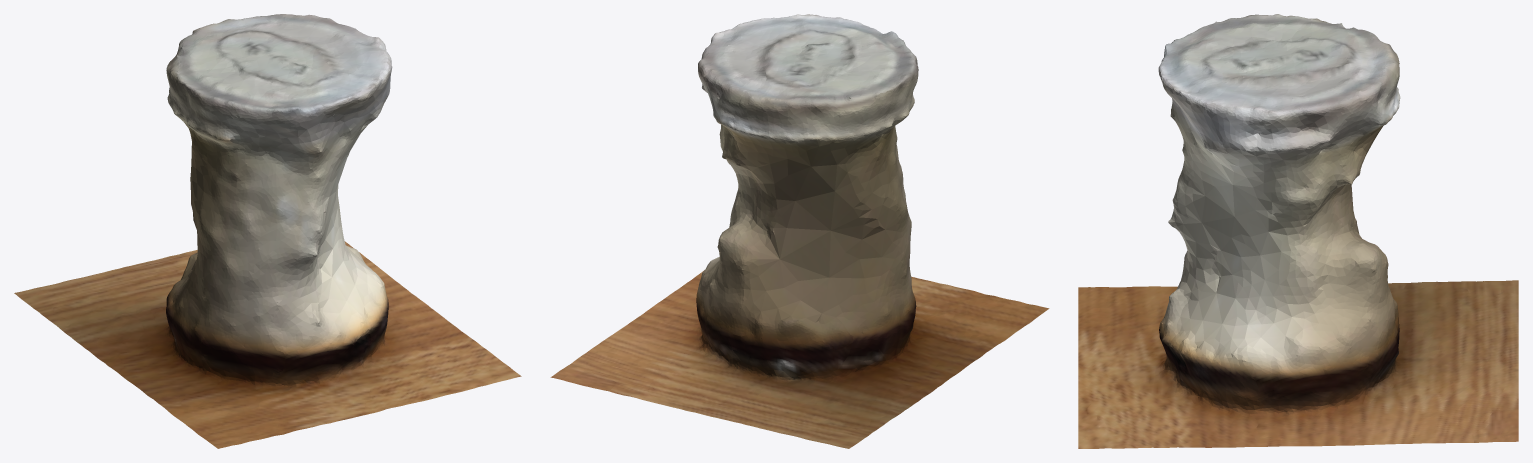
File: purin03.glb
The picture shows the model from 3 angles, left to right: view 1: azimuth 30°, elevation 25°; view 2: azimuth 150°, elevation 25°; view 3: azimuth 270°, elevation 25°; orthographic projection. The views are drawn at different scales.
Parts seen in each view (by area): view 1: mesh; view 2: mesh; view 3: mesh.
Part boxes in pixels (<box>): mesh: <box>14,14,521,448</box>; mesh: <box>550,14,1049,448</box>; mesh: <box>1078,14,1518,448</box>.
Bounding box in the file's own units: 0.084 × 0.0768 × 0.0977.
Materials: 1 (1 with a texture image).
